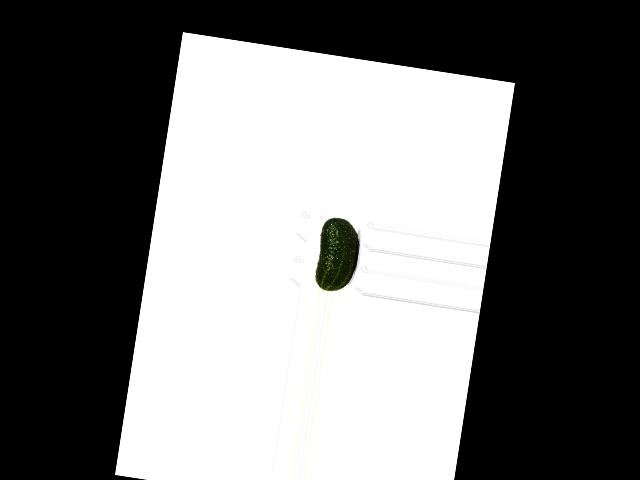cucumber: (313, 215, 363, 294)
